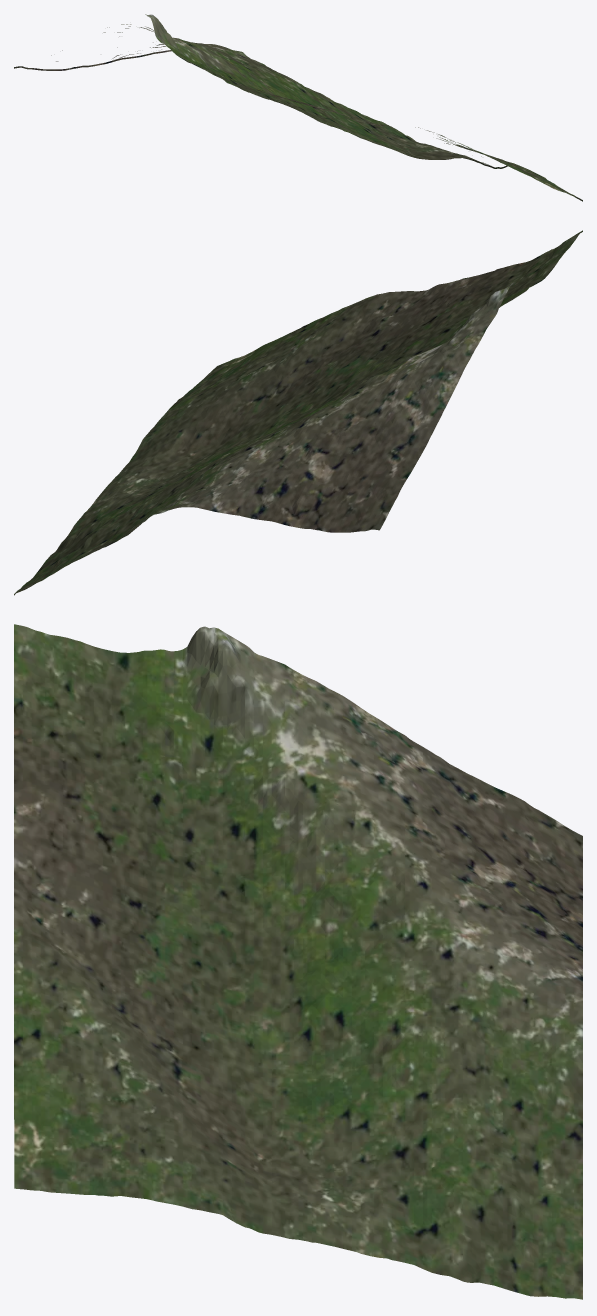
The picture shows the model from 3 angles, top to bottom: view 1: azimuth 30°, elevation 25°; view 2: azimuth 150°, elevation 25°; view 3: azimuth 270°, elevation 25°; orthographic projection. The views are drawn at different scales.
Size of the model in its own units: 250 by 200 by 241.
1 material, 1 textured.
